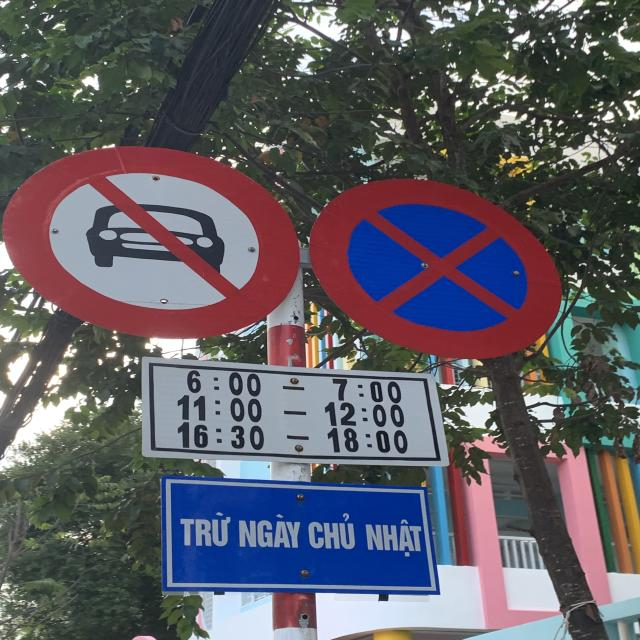Cam_Dung_Va_Dau_Xe: (309, 176, 565, 362)
Cam_O_To: (3, 146, 301, 340)
